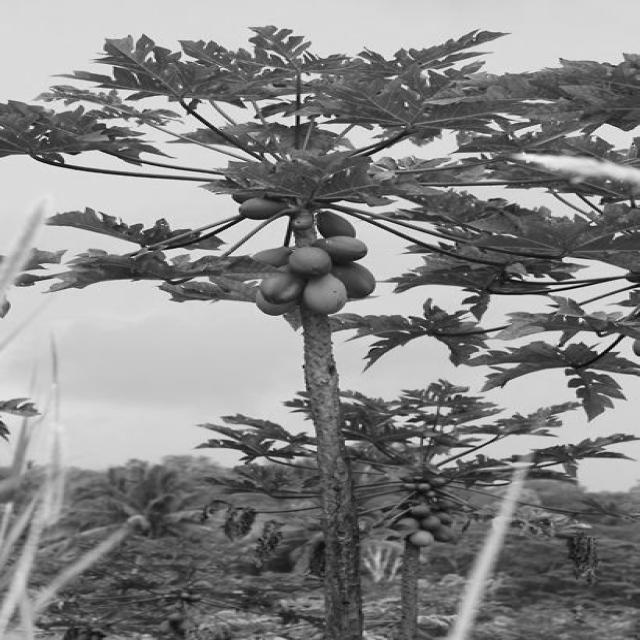Papaya-Tree: (23, 13, 640, 560)
